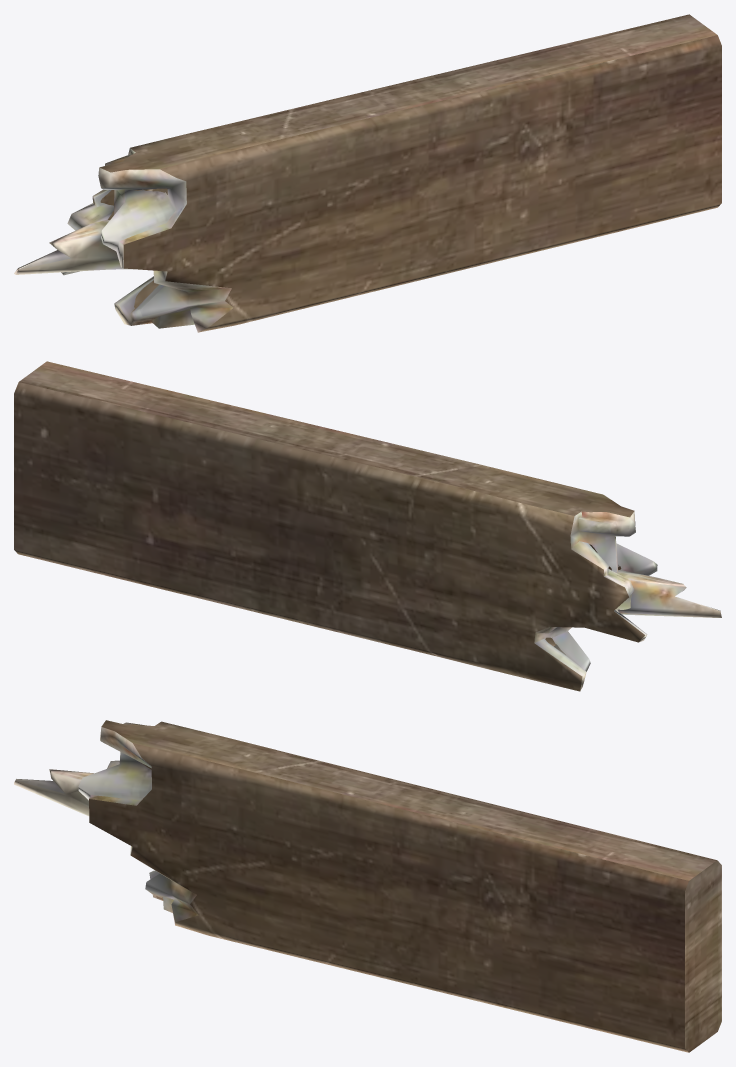
3 views of the same model, one above another, from view 1: azimuth 30°, elevation 25°; view 2: azimuth 150°, elevation 25°; view 3: azimuth 330°, elevation 25° (orthographic).
Visible parts, largest first — view 1: SM_Human_Ruins_Beam_Dmg_02_LOD0; view 2: SM_Human_Ruins_Beam_Dmg_02_LOD0; view 3: SM_Human_Ruins_Beam_Dmg_02_LOD0.
Boxes of the visible parts, x1,y1,x2,y2 form: SM_Human_Ruins_Beam_Dmg_02_LOD0: (14, 14, 721, 332); SM_Human_Ruins_Beam_Dmg_02_LOD0: (14, 361, 721, 691); SM_Human_Ruins_Beam_Dmg_02_LOD0: (14, 720, 721, 1052).
Size of the model in its own units: 1.18 by 0.2849 by 0.1096.
Materials: 1 (1 with a texture image).
